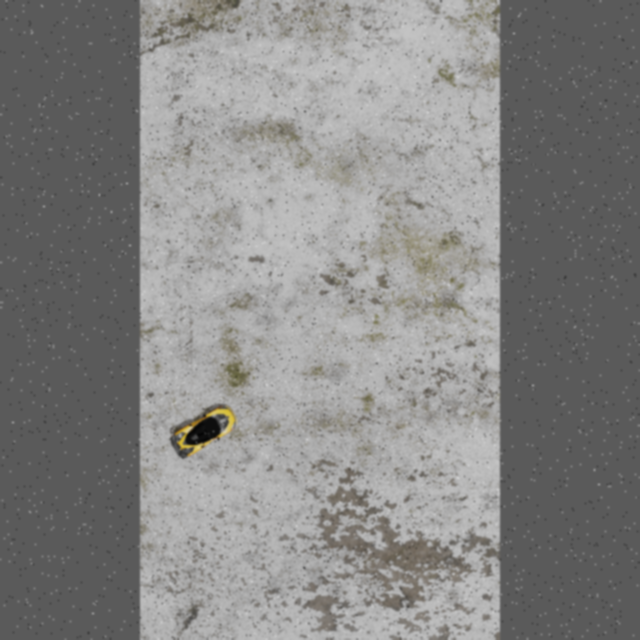car: (165, 400, 241, 463)
